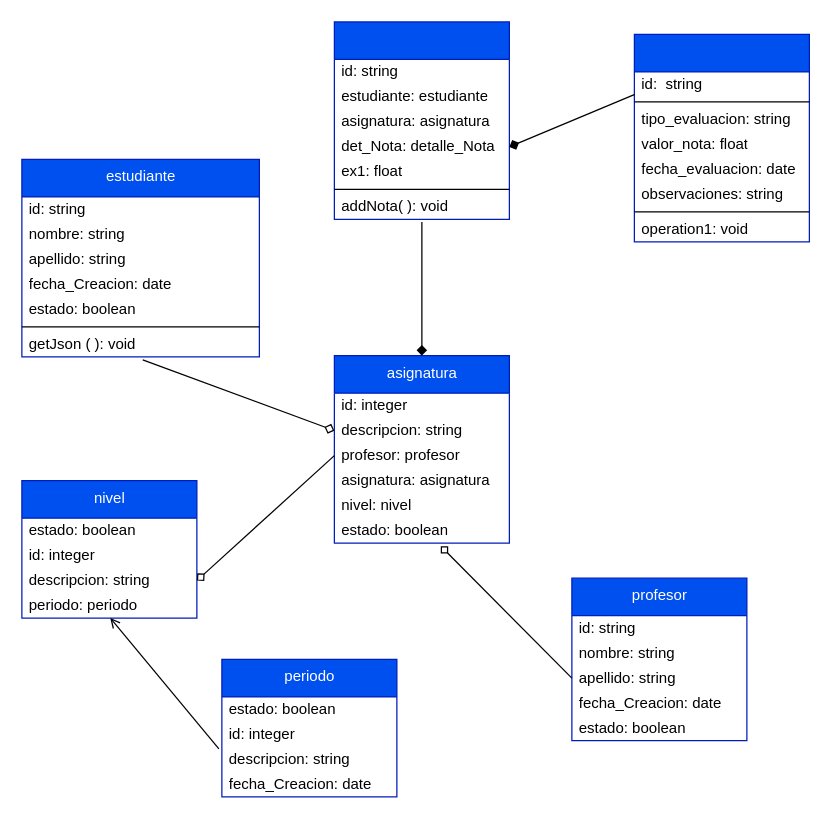
Some shapes in this 831 by 819 pixel diagram are drawn without their labels. Here are the shapes that lost their labels. From the top down, the box of each, then its label:
(333, 21, 509, 219): notas
(633, 33, 809, 242): detalleNota
